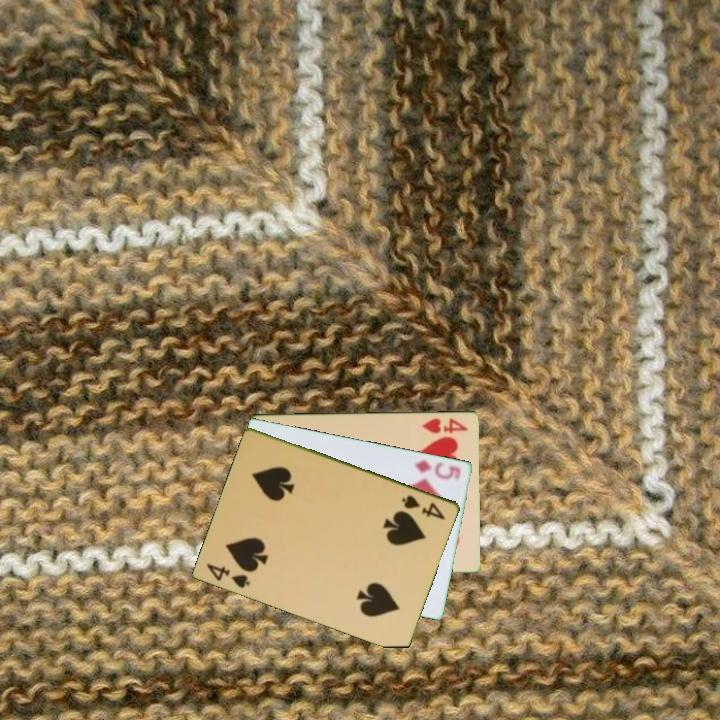4h: (419, 414, 470, 436)
4s: (399, 491, 449, 522), (203, 560, 253, 591)
5d: (412, 456, 464, 482)
